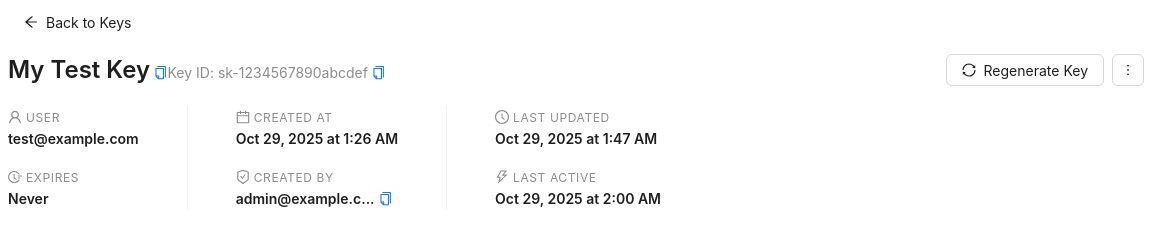
Test: KeyInfoHeader › destructive actions dropdown › should list Block Key, Reset Spend, and Delete Key when all handlers are provided
The image size is (1152, 226).
What coordinates should you click on to do the following:
click the button named "more key actions"
I would click on:
 (1128, 70)
Its box is [1112,54,1144,86].
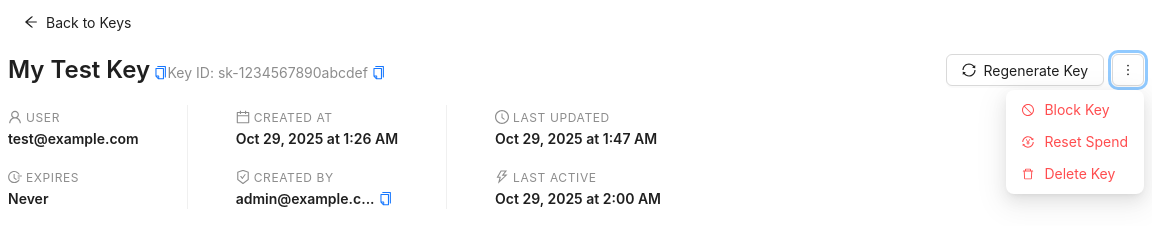
Result: the menu item "Block Key" is shown at [1022,101,1110,118]
Result: the menu item "Reset Spend" is shown at [1022,133,1128,150]
Result: the menu item "Delete Key" is shown at [1022,165,1115,182]
